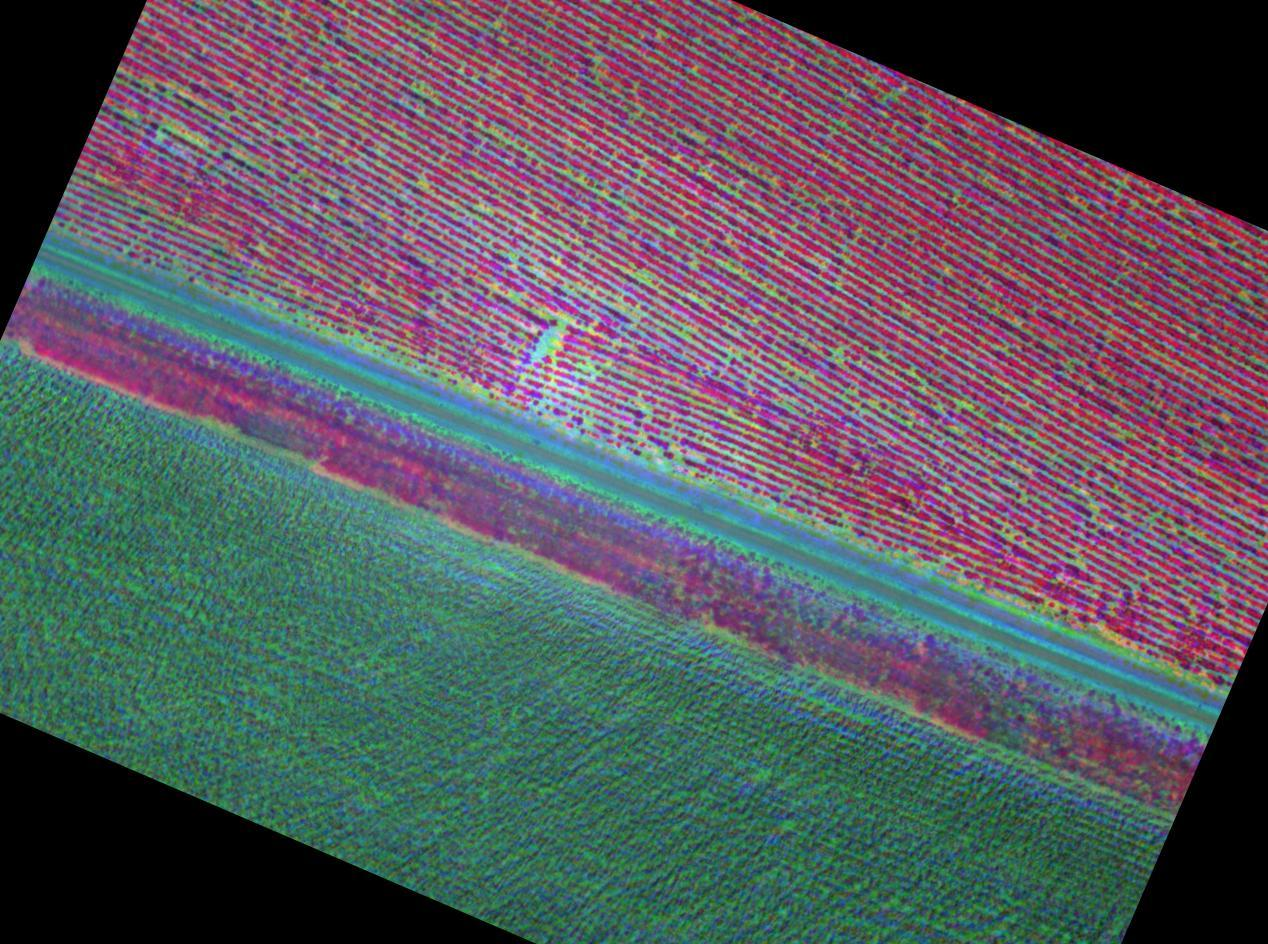dc: (540, 347, 547, 355), (551, 330, 557, 337), (420, 177, 424, 182), (691, 69, 695, 74), (832, 129, 836, 133), (143, 216, 147, 220), (175, 219, 179, 223), (492, 24, 496, 28), (681, 332, 685, 336), (417, 90, 421, 94), (658, 29, 661, 33), (325, 193, 328, 196)
